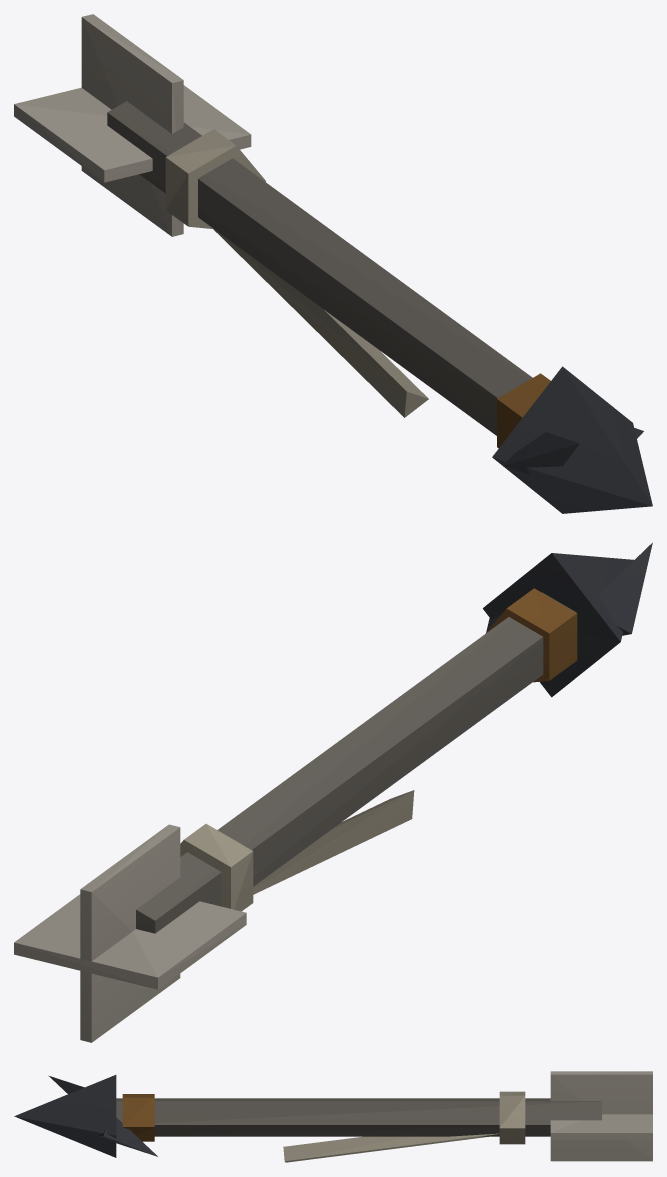
Rendered from pinning_bolt.glb.
3 renders of one model, top to bottom at view 1: azimuth 30°, elevation 25°; view 2: azimuth 150°, elevation 25°; view 3: azimuth 270°, elevation 25°, orthographic. The views are drawn at different scales.
Parts seen in each view (by area): view 1: pinning_bolt; view 2: pinning_bolt; view 3: pinning_bolt.
Boxes of the visible parts, x1,y1,x2,y2 form: pinning_bolt: (14, 14, 652, 513); pinning_bolt: (14, 542, 652, 1042); pinning_bolt: (14, 1071, 652, 1162).
Size of the model in its own units: 0.075 by 0.0794 by 0.5.
